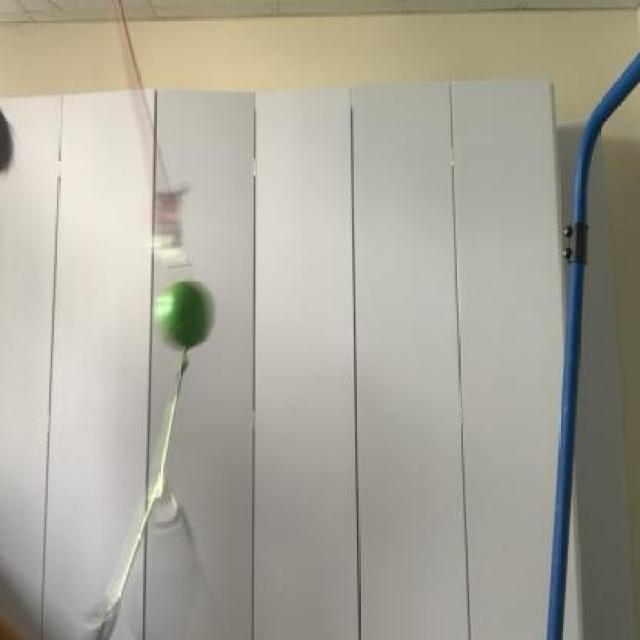baseball: (152, 278, 214, 354)
